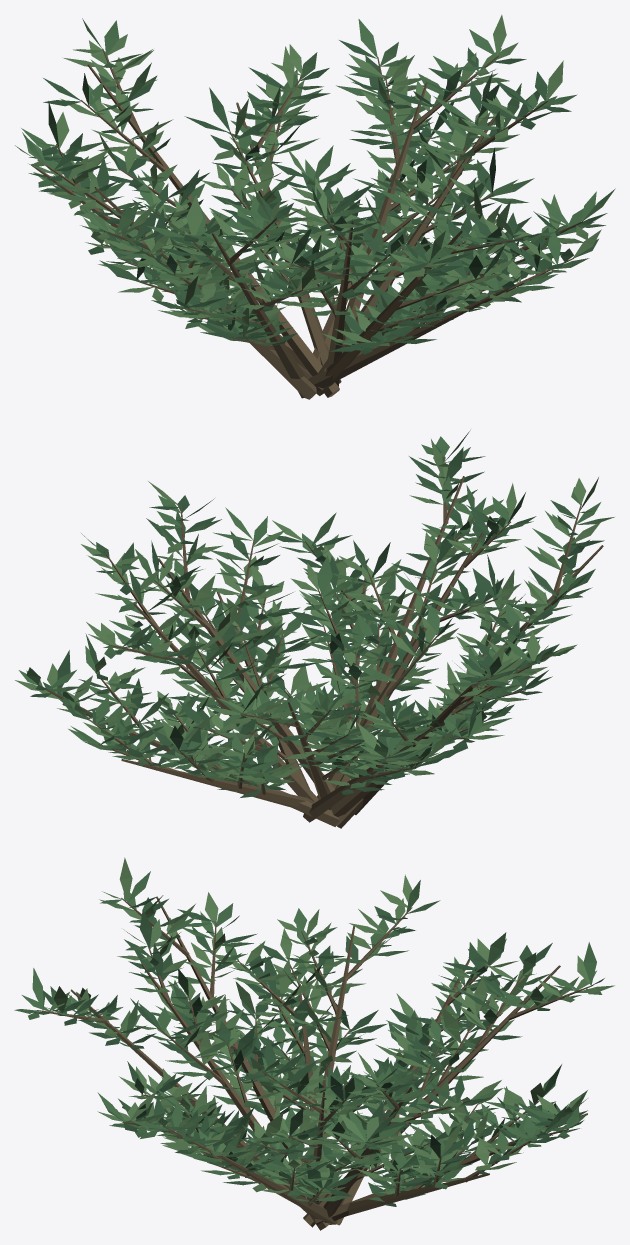
The model's file is bush_23.glb.
3 views of the same model, one above another, from view 1: azimuth 30°, elevation 25°; view 2: azimuth 150°, elevation 25°; view 3: azimuth 270°, elevation 25° (orthographic). The views are drawn at different scales.
Parts seen in each view (by area): view 1: bush_23; view 2: bush_23; view 3: bush_23.
Part boxes in pixels (<box>): bush_23: <box>15,14,615,399</box>; bush_23: <box>15,430,614,828</box>; bush_23: <box>14,857,614,1230</box>.
Bounding box in the file's own units: 1.91 × 1.25 × 2.33.
